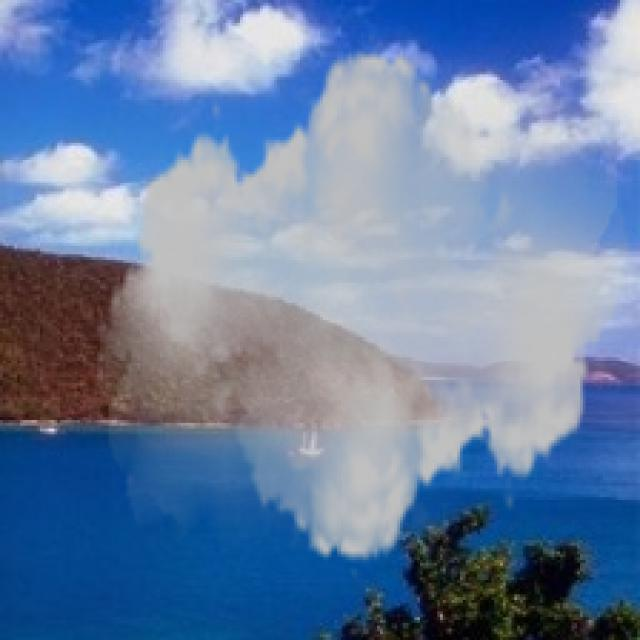smoke: (97, 28, 629, 583)
